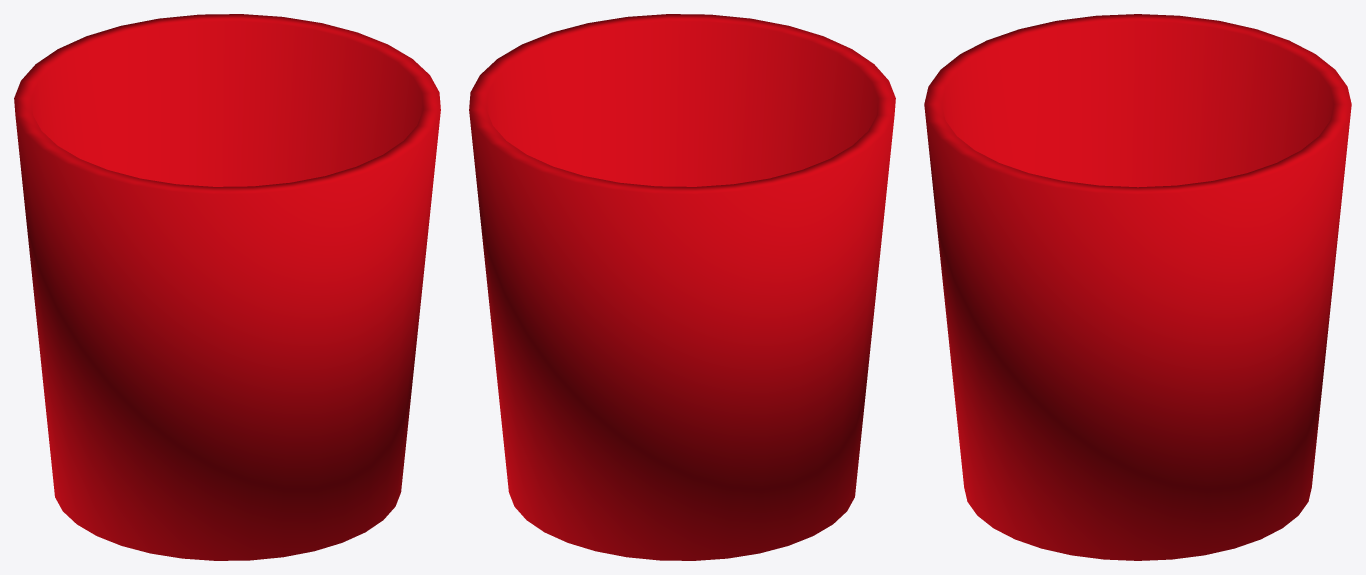
The model's file is kosz.fbx.
3 views of the same model, side by side, from view 1: azimuth 30°, elevation 25°; view 2: azimuth 150°, elevation 25°; view 3: azimuth 270°, elevation 25° (orthographic).
Visible parts, largest first — view 1: Cylinder; view 2: Cylinder; view 3: Cylinder.
Boxes of the visible parts, bbox=[...] form: Cylinder: bbox=[14, 14, 440, 560]; Cylinder: bbox=[469, 14, 895, 560]; Cylinder: bbox=[924, 14, 1351, 560].
Size of the model in its own units: 246 by 243 by 246.
